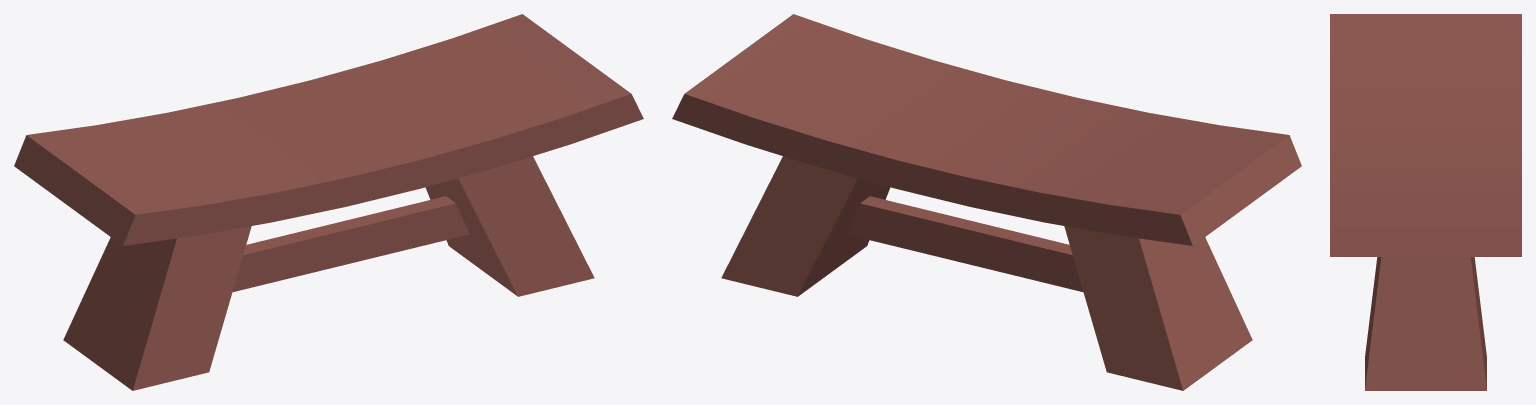
The model's file is Bench.fbx.
3 views of the same model, side by side, from view 1: azimuth 30°, elevation 25°; view 2: azimuth 150°, elevation 25°; view 3: azimuth 270°, elevation 25° (orthographic). The views are drawn at different scales.
Parts seen in each view (by area): view 1: Bench; view 2: Bench; view 3: Bench.
Part boxes in pixels (x1,y1,x2,y2): Bench: (14, 14, 643, 390); Bench: (672, 14, 1301, 390); Bench: (1330, 14, 1521, 390).
Size of the model in its own units: 2.78 by 0.9929 by 1.01.
